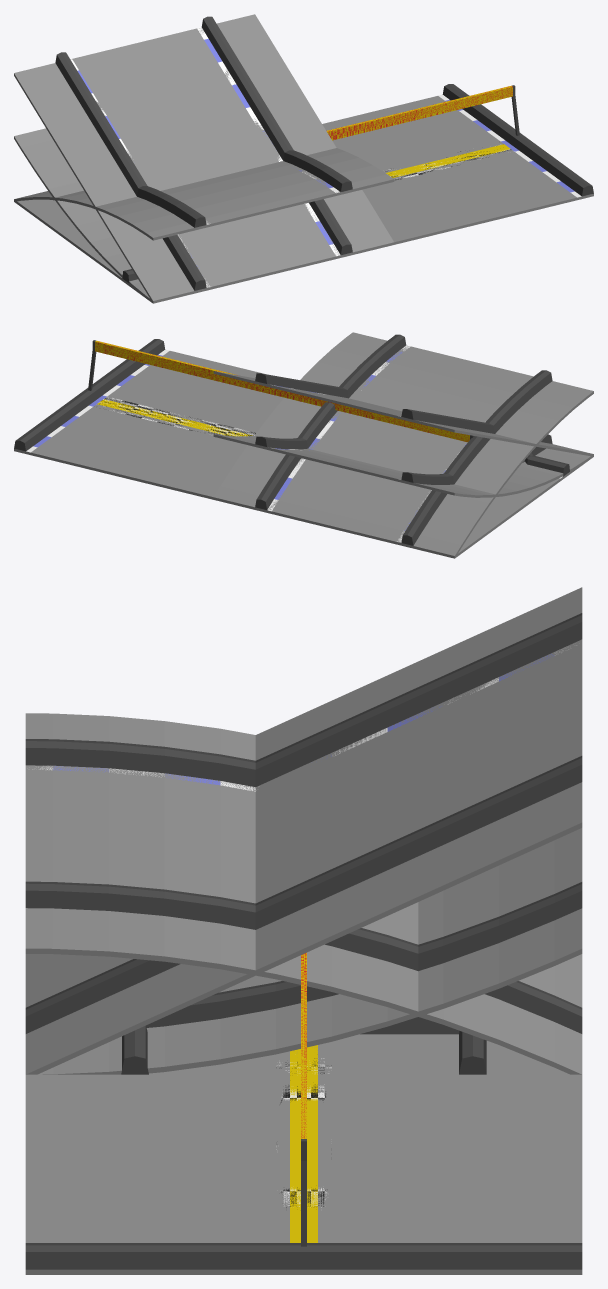
File: road_wide.glb
3 views of the same model, one above another, from view 1: azimuth 30°, elevation 25°; view 2: azimuth 150°, elevation 25°; view 3: azimuth 270°, elevation 25° (orthographic). The views are drawn at different scales.
Visible parts, largest first — view 1: SlopeRightWide, SlopeLeftWide, CheckpointWide, SlopeDownRightWide, SlopeDownLeftWide, FinishWide, SlopeUpRightWide, InnerCornerWide, StraightWide, ToWideRight, ToWideMiddle, OuterCornerWide; view 2: SlopeDownRightWide, CheckpointWide, SlopeDownLeftWide, FinishWide, SlopeUpRightWide, SlopeRightWide, SlopeUpLeftWide, SlopeLeftWide, ToWideMiddle, StraightWide, ToWideRight, ToWideLeft; view 3: CheckpointWide, SlopeLeftWide, SlopeDownLeftWide, SlopeRightWide, SlopeDownRightWide, FinishWide, SlopeUpLeftWide, SlopeUpRightWide, InnerCornerWide, OuterCornerWide, ToWideRight.
Part boxes in pixels (x1,y1,x2,y2): SlopeRightWide: (14, 16, 351, 301); SlopeLeftWide: (55, 14, 393, 290); CheckpointWide: (211, 84, 593, 289); SlopeDownRightWide: (14, 150, 352, 240); SlopeDownLeftWide: (137, 148, 394, 229); FinishWide: (326, 86, 526, 218); SlopeUpRightWide: (14, 128, 151, 301); InnerCornerWide: (14, 201, 349, 303); StraightWide: (14, 199, 352, 303); ToWideRight: (17, 199, 128, 285); ToWideMiddle: (15, 200, 223, 288); OuterCornerWide: (203, 242, 394, 290); SlopeDownRightWide: (256, 334, 593, 555); CheckpointWide: (14, 339, 473, 499); SlopeDownLeftWide: (214, 332, 552, 545); FinishWide: (38, 341, 469, 490); SlopeUpRightWide: (255, 436, 593, 497); SlopeRightWide: (255, 373, 593, 456); SlopeUpLeftWide: (213, 434, 545, 484); SlopeLeftWide: (213, 371, 552, 443); ToWideMiddle: (385, 452, 569, 557); StraightWide: (398, 454, 593, 558); ToWideRight: (255, 472, 569, 558); ToWideLeft: (213, 497, 413, 548); CheckpointWide: (25, 953, 582, 1274); SlopeLeftWide: (25, 613, 582, 1074); SlopeDownLeftWide: (25, 739, 582, 1074); SlopeRightWide: (25, 587, 582, 1033); SlopeDownRightWide: (25, 713, 582, 1033); FinishWide: (136, 953, 554, 1242); SlopeUpLeftWide: (38, 831, 582, 1074); SlopeUpRightWide: (146, 828, 582, 1027); InnerCornerWide: (121, 1025, 487, 1074); OuterCornerWide: (459, 1031, 486, 1074); ToWideRight: (360, 1017, 459, 1034).
Bounding box in the file's own units: 36.57 × 10.94 × 20.
